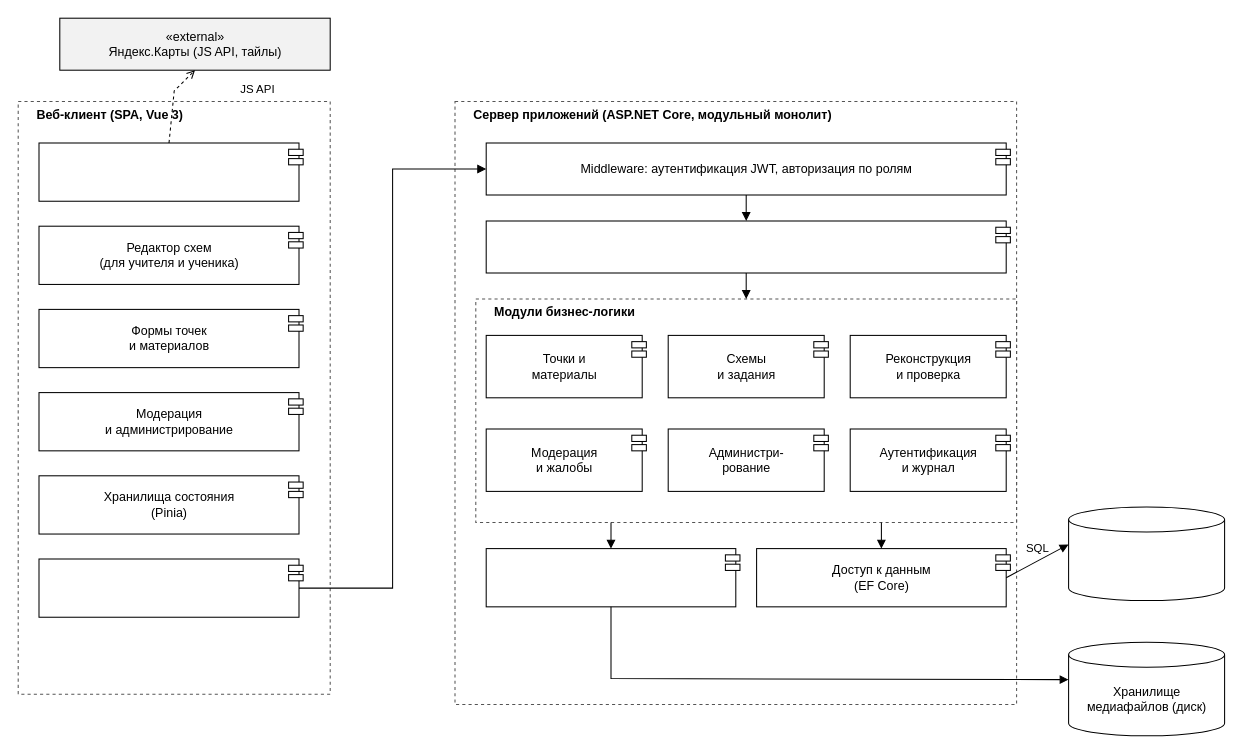
Some shapes in this 1243 by 754 pixel diagram are drawn without their labels. Here are the shapes that lost their labels. From the top down, the centre of each, then its label:
At [168,171]: "Модуль карты и шкалы времени".
At [745,246]: "REST-контроллеры (Web API)".
At [392,569]: "HTTPS, JSON".
At [1146,553]: "СУБД SQLite → PostgreSQL".
At [168,587]: "ApiClient (HTTP, JWT)".
At [610,577]: "Адаптер файлового хранилища".
At [829,668]: "файловый ввод-вывод".
